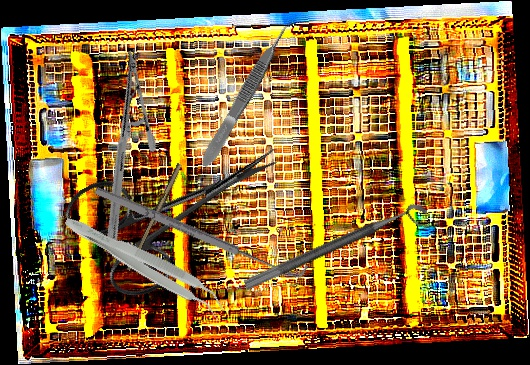Fixation Ring: (242, 199, 434, 306)
Hook Surgical: (90, 175, 312, 287)
Iris Scissors: (58, 98, 306, 311)
Needle Holder: (40, 47, 204, 248)
Scalpel Handle: (125, 162, 185, 273)
Tissue Forceps: (57, 210, 232, 322), (196, 22, 295, 170)
